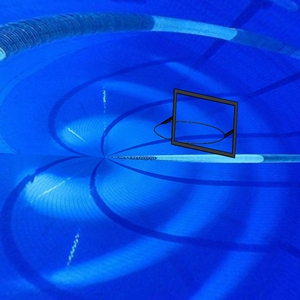circle: (154, 87, 239, 159)
